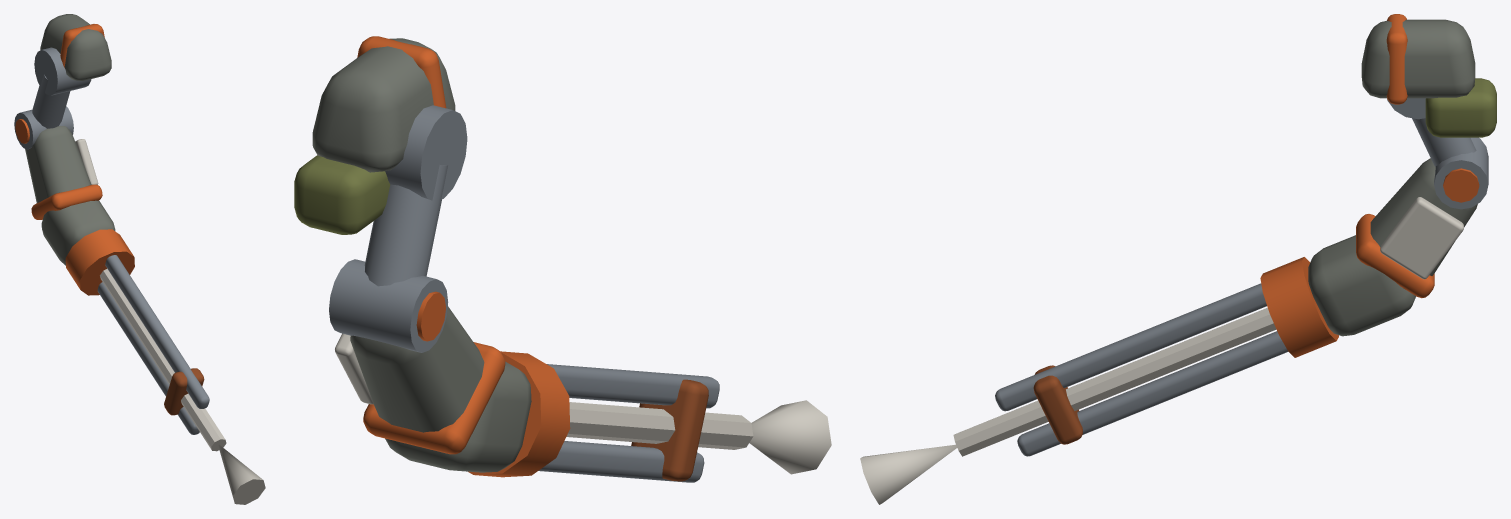
Rendered from ar_lance.glb.
3 renders of one model, left to right at view 1: azimuth 30°, elevation 25°; view 2: azimuth 150°, elevation 25°; view 3: azimuth 270°, elevation 25°, orthographic. The views are drawn at different scales.
Parts seen in each view (by area): view 1: ar_lance; view 2: ar_lance; view 3: ar_lance.
Boxes of the visible parts, x1,y1,x2,y2 form: ar_lance: [14, 14, 265, 504]; ar_lance: [294, 36, 831, 482]; ar_lance: [860, 14, 1496, 504].
Size of the model in its own units: 0.1382 by 0.6556 by 0.7692.
